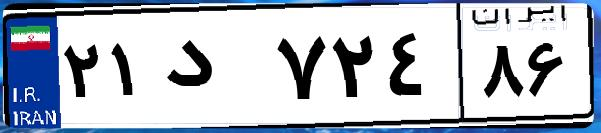1: (110, 28, 158, 98)
2: (330, 28, 385, 110), (57, 26, 110, 100)
4: (385, 28, 445, 110)
6: (525, 38, 570, 115)
7: (270, 28, 330, 110)
8: (475, 38, 525, 113)
د: (158, 20, 270, 120)
